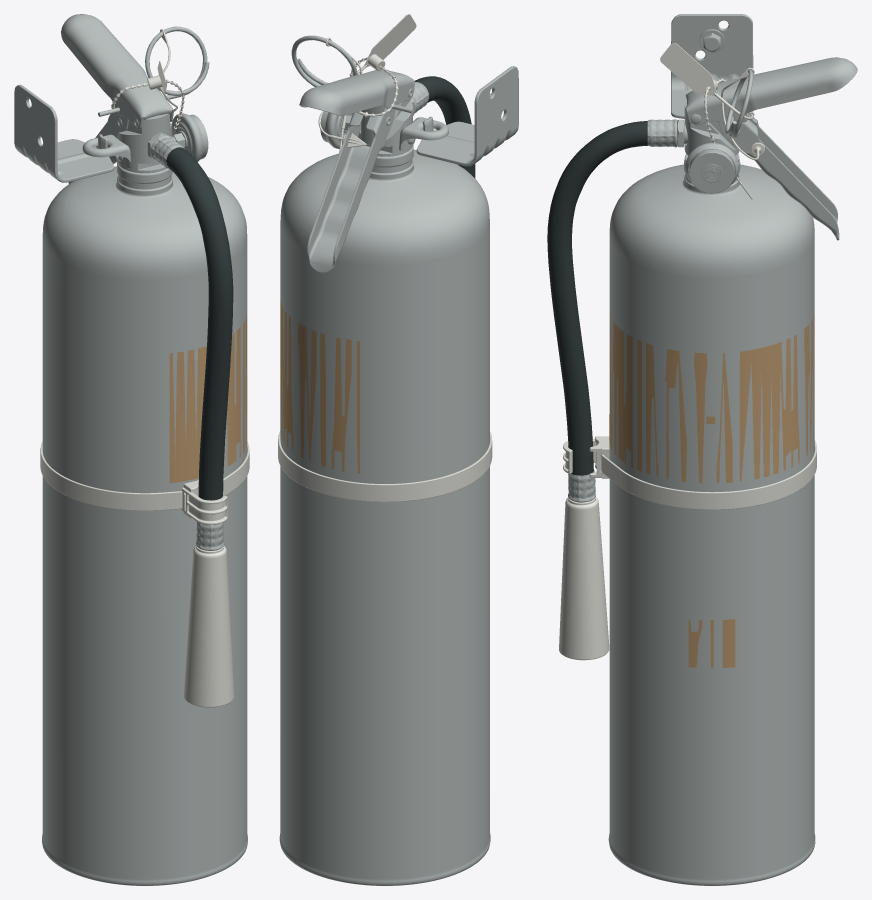
Rendered from fireExtinguisher_abc_a03.glb.
The picture shows the model from 3 angles, left to right: view 1: azimuth 30°, elevation 25°; view 2: azimuth 150°, elevation 25°; view 3: azimuth 270°, elevation 25°; orthographic projection. The views are drawn at different scales.
Bounding box in the file's own units: 0.1441 × 0.5448 × 0.192.
